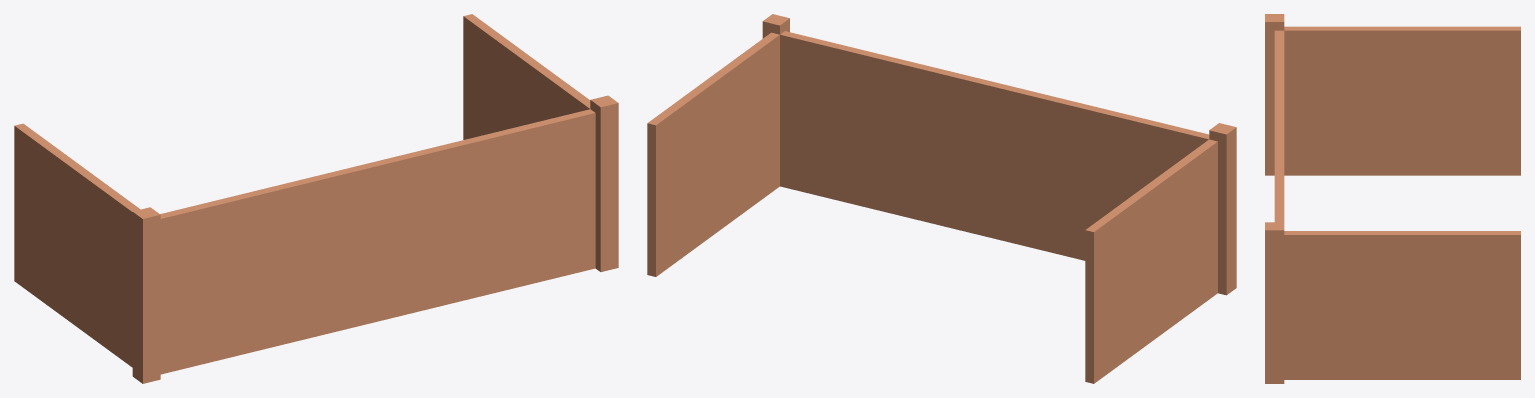
The model's file is fence_small.fbx.
3 renders of one model, left to right at view 1: azimuth 30°, elevation 25°; view 2: azimuth 150°, elevation 25°; view 3: azimuth 270°, elevation 25°, orthographic. The views are drawn at different scales.
Parts seen in each view (by area): view 1: fence_small; view 2: fence_small; view 3: fence_small.
Part boxes in pixels (left/top/right/bottom): fence_small: left=14, top=14, right=618, bottom=383; fence_small: left=647, top=14, right=1236, bottom=383; fence_small: left=1265, top=14, right=1520, bottom=383.
Size of the model in its own units: 8 by 2.65 by 4.
